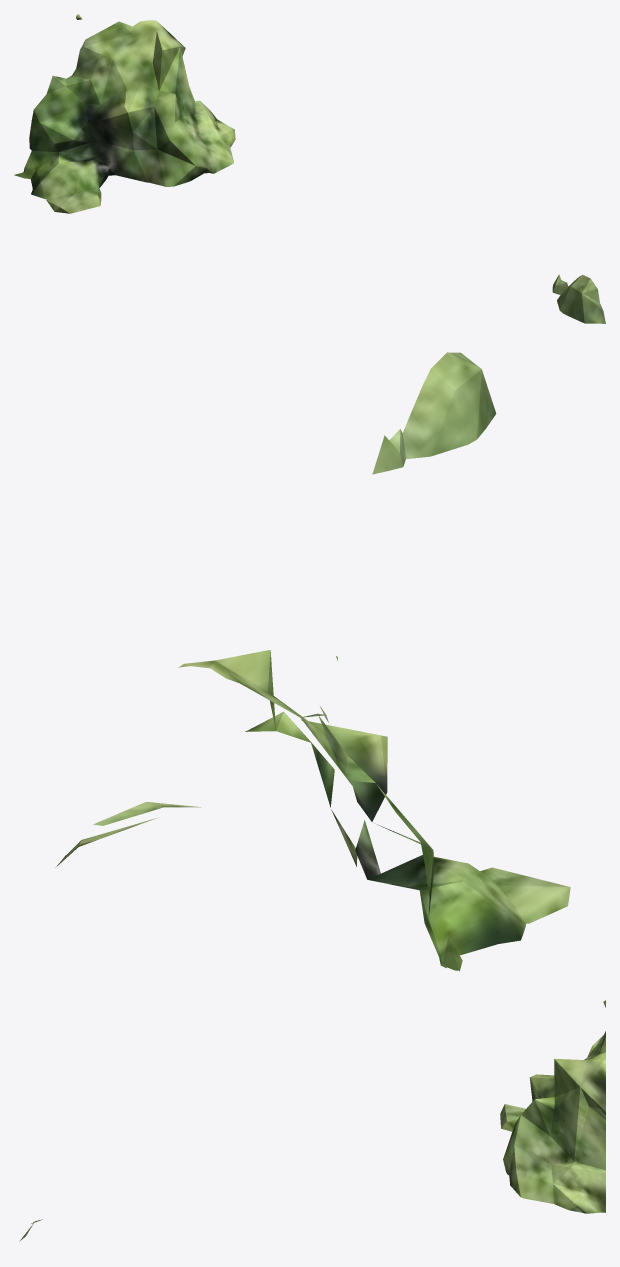
3 renders of one model, top to bottom at view 1: azimuth 30°, elevation 25°; view 2: azimuth 150°, elevation 25°; view 3: azimuth 270°, elevation 25°, orthographic. The views are drawn at different scales.
Bounding box in the file's own units: 10.93 × 5.08 × 19.02.
Materials: 1 (1 with a texture image).
